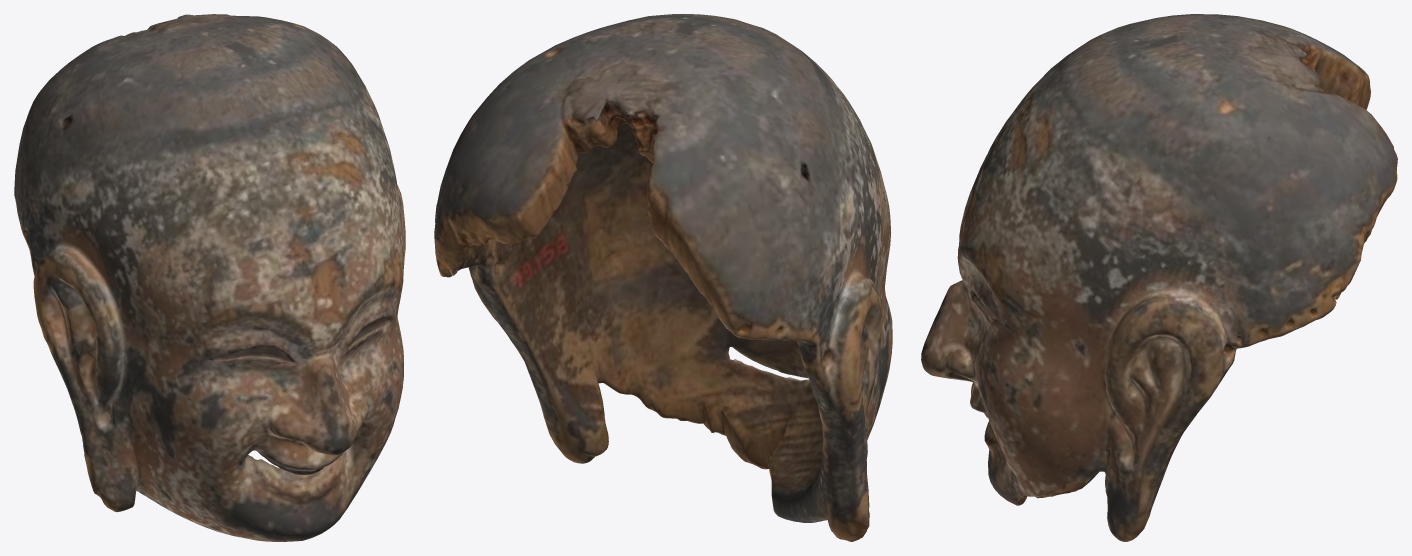
File: cma-gigaku-mask-persian-boy.glb
3 views of the same model, side by side, from view 1: azimuth 30°, elevation 25°; view 2: azimuth 150°, elevation 25°; view 3: azimuth 270°, elevation 25° (orthographic). The views are drawn at different scales.
Parts seen in each view (by area): view 1: 1949.158_gikaku_mask_of_young_persian_boy; view 2: 1949.158_gikaku_mask_of_young_persian_boy; view 3: 1949.158_gikaku_mask_of_young_persian_boy.
Boxes of the visible parts, x1,y1,x2,y2 form: 1949.158_gikaku_mask_of_young_persian_boy: [14, 14, 405, 541]; 1949.158_gikaku_mask_of_young_persian_boy: [434, 14, 892, 541]; 1949.158_gikaku_mask_of_young_persian_boy: [921, 14, 1397, 541].
Size of the model in its own units: 0.2254 by 0.28 by 0.256.
Materials: 1 (1 with a texture image).
